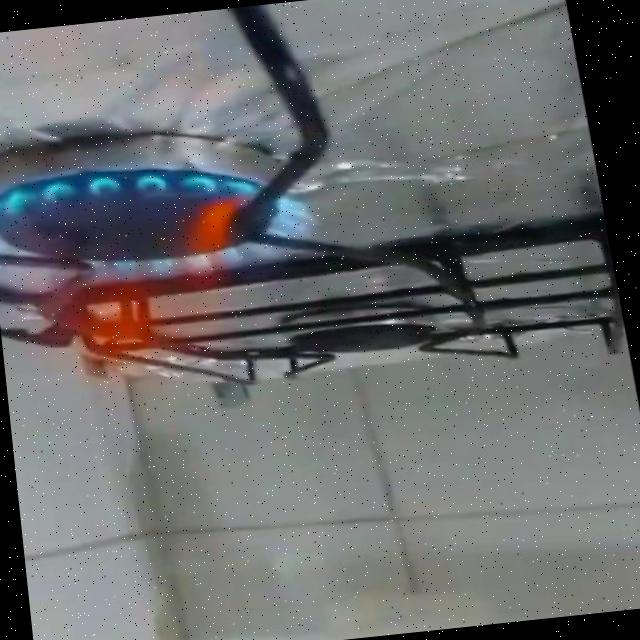fire: (0, 148, 354, 427)
